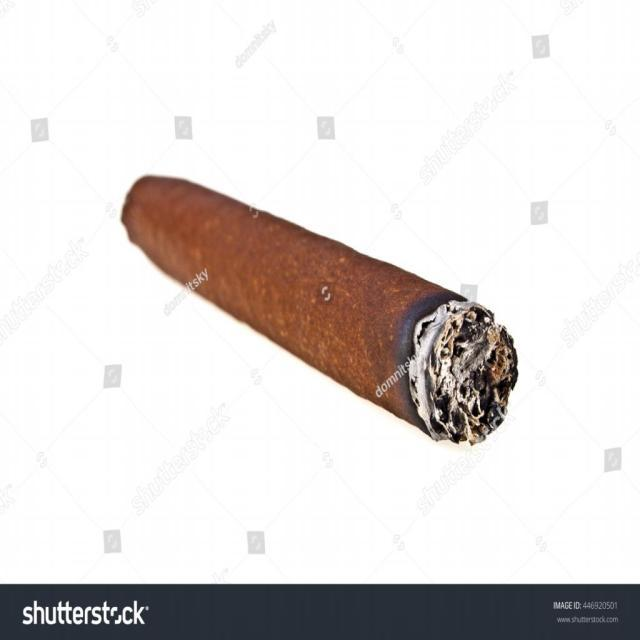smoking: (96, 123, 551, 468)
